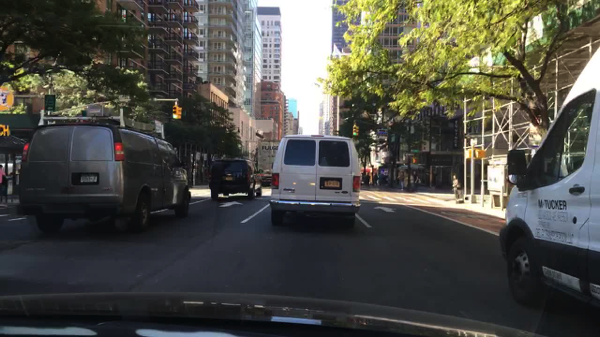car: (496, 41, 599, 325), (15, 107, 192, 237), (266, 132, 365, 229), (206, 155, 261, 204)
person: (0, 163, 8, 201), (450, 176, 461, 202), (412, 170, 421, 192), (397, 171, 406, 191), (366, 168, 372, 188), (372, 172, 380, 187), (384, 171, 389, 189)
traffic light: (172, 106, 178, 120), (352, 123, 357, 138), (475, 150, 483, 159), (178, 106, 183, 120), (464, 150, 470, 158), (355, 125, 359, 137)
traffic sign: (44, 95, 60, 114), (154, 120, 164, 135), (376, 129, 390, 136), (409, 148, 420, 154), (196, 152, 201, 162)
truck: (256, 140, 281, 188)
